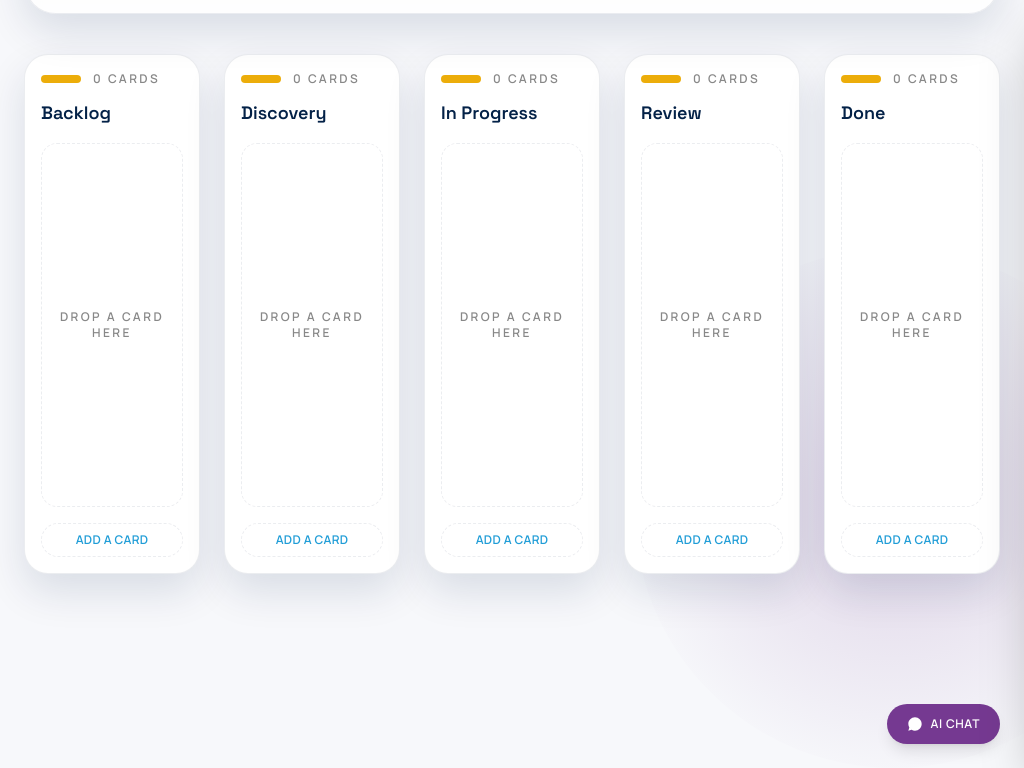
Test: KanbanBoard › adds and removes a card via the API
(page scrolled)
Click the 1st button "Add a card".
click(112, 540)  # box [41, 523, 183, 557]
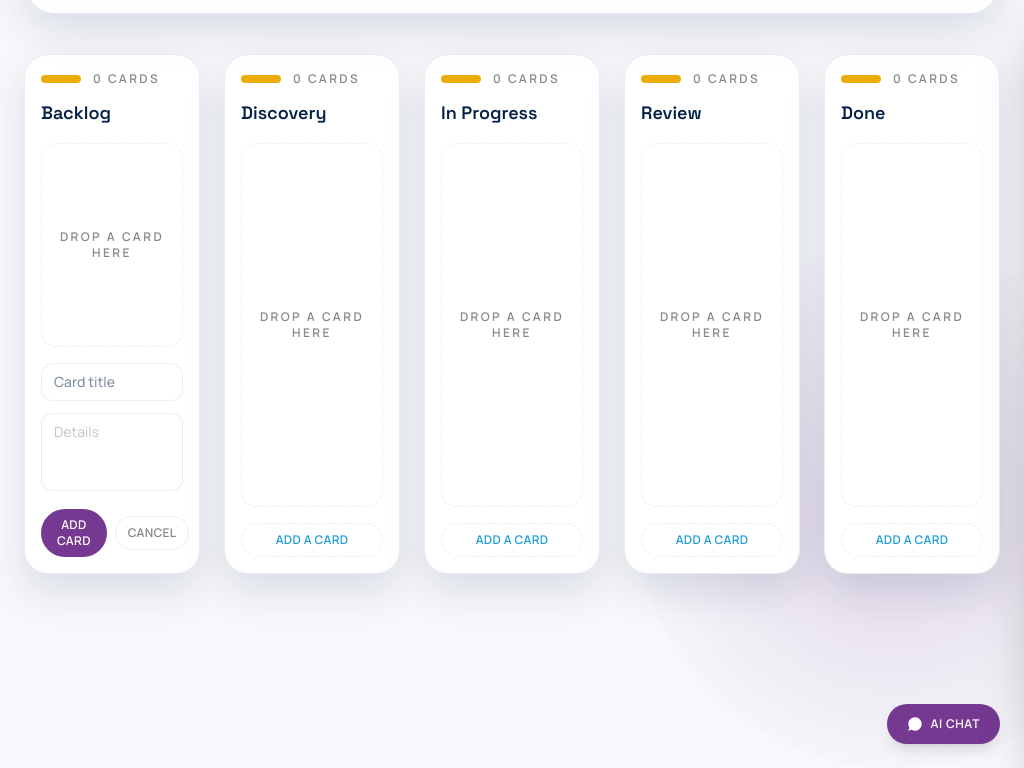
Type "New card" into the field with placeholder "Card title".
click(112, 382); type("New card")  # box [41, 363, 183, 401]
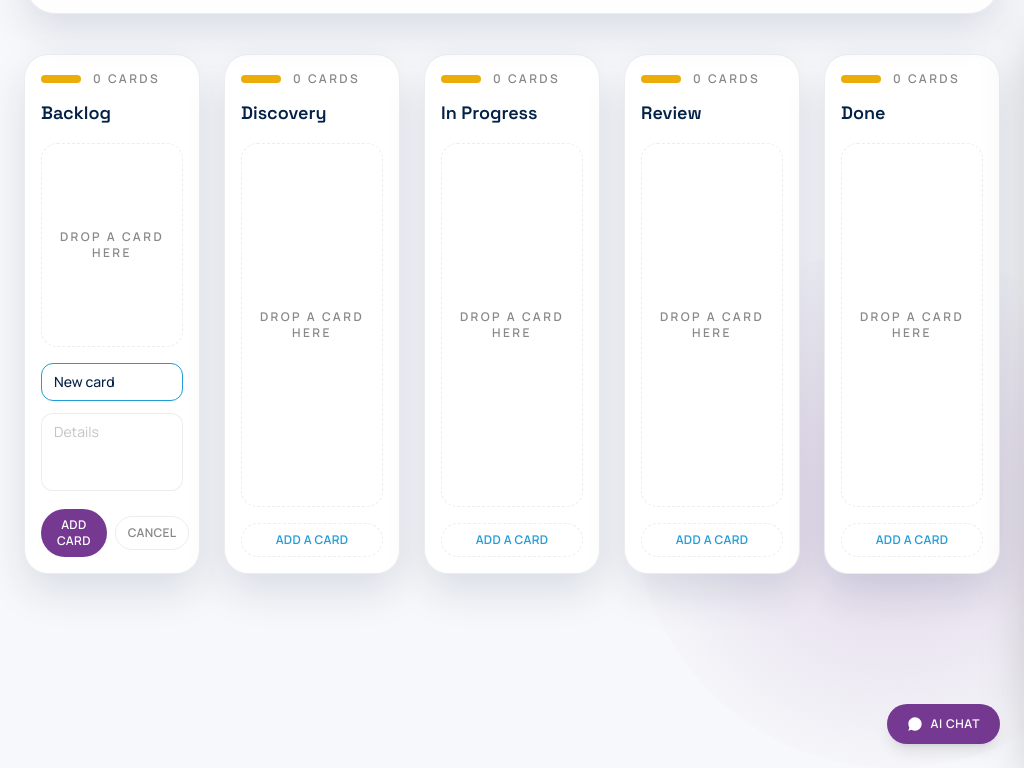
Type "Notes" into the text box with placeholder "Details".
click(112, 452); type("Notes")  # box [41, 413, 183, 491]
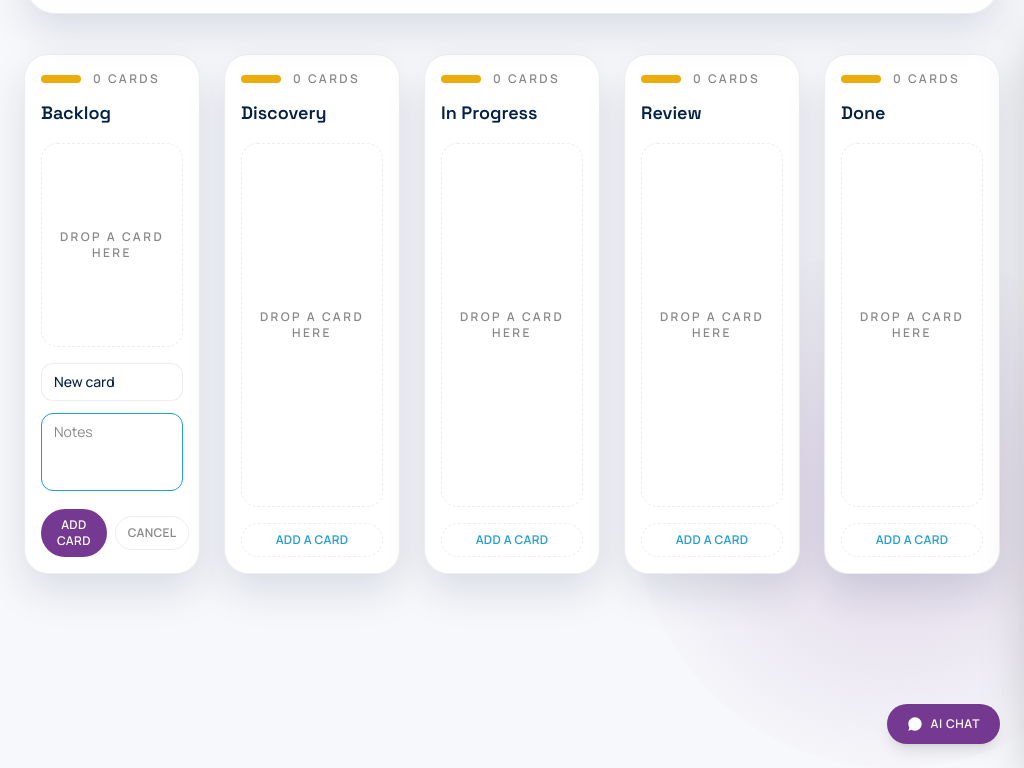
Click the button "Add card".
click(74, 533)  # box [41, 509, 107, 557]
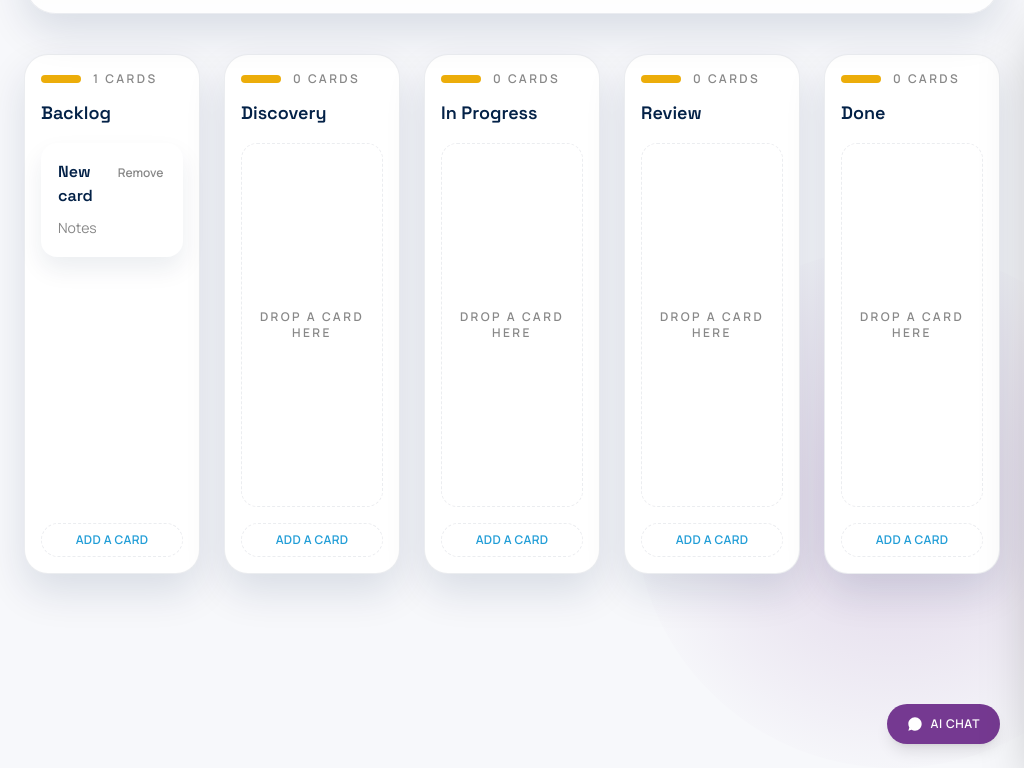
Check: the heading "New card" is shown, box [58, 160, 97, 208]
Click the button with aria-label "delete new card".
click(141, 173)  # box [109, 160, 172, 186]
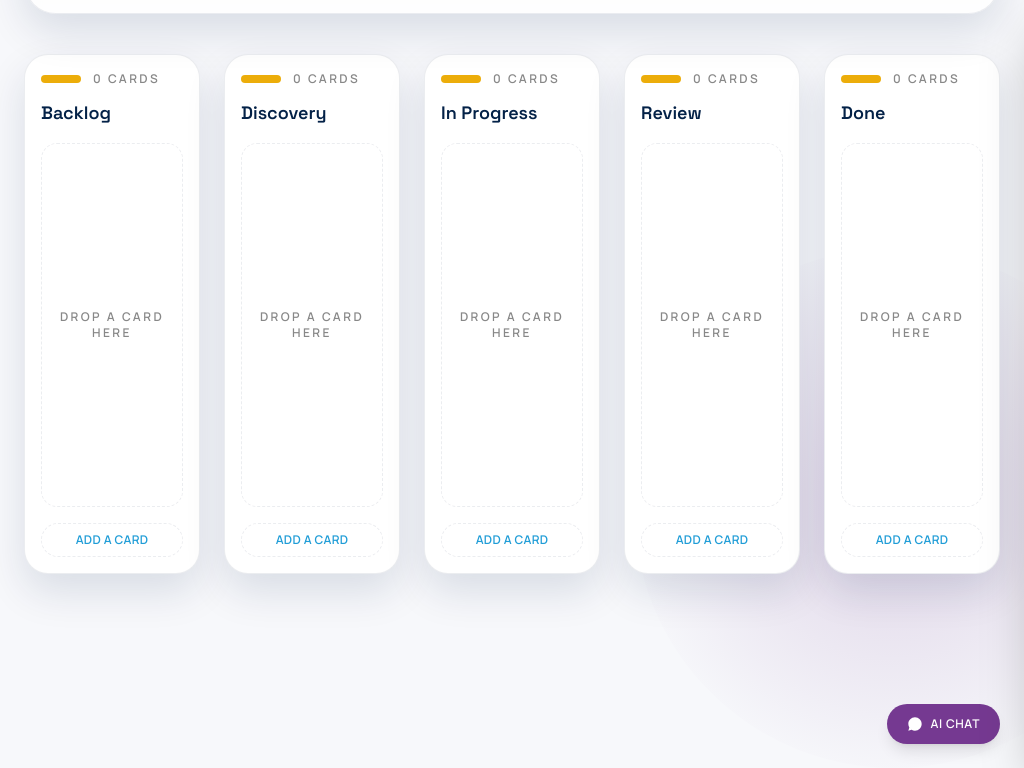
Check: the button "New card" is gone
